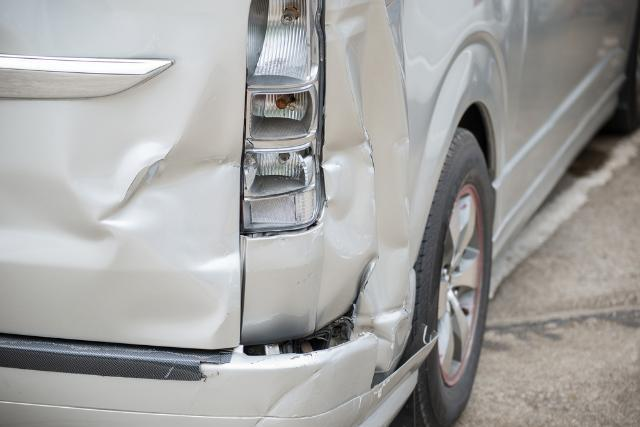dent: (0, 51, 244, 349), (313, 0, 410, 339)
dislocated part: (236, 311, 376, 367)
lamp broken: (237, 0, 326, 233)
